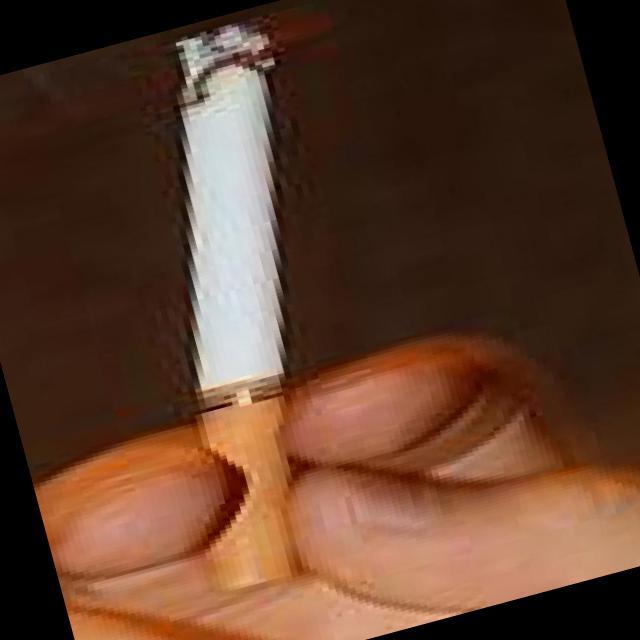smoke: (48, 10, 400, 608)
